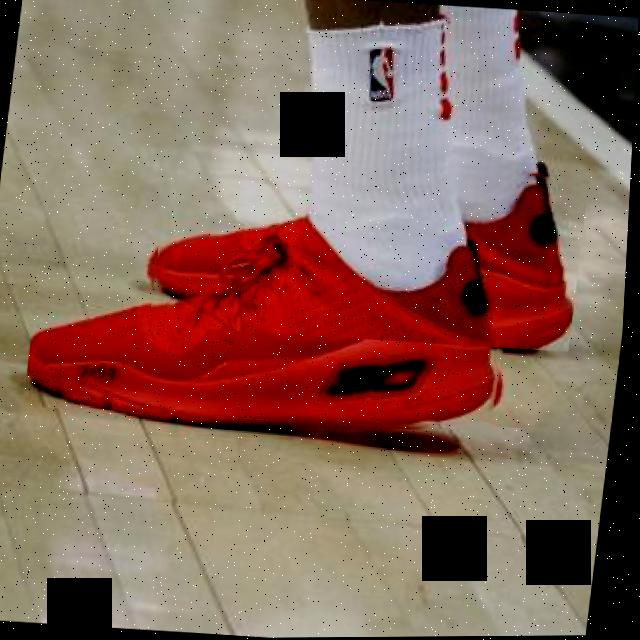shoe: (26, 187, 530, 439), (149, 139, 593, 355)
